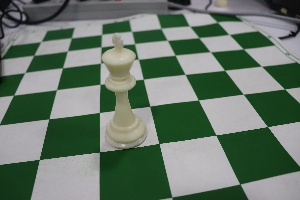white_king: (87, 23, 151, 153)
